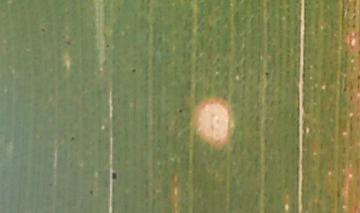tarspot: (63, 38, 73, 48), (110, 170, 118, 181), (176, 106, 185, 115), (38, 26, 47, 34), (130, 66, 138, 74), (262, 70, 271, 77), (88, 188, 95, 196), (348, 94, 355, 102), (69, 135, 76, 142), (104, 43, 111, 50), (214, 56, 221, 63), (350, 22, 357, 29), (351, 14, 357, 22), (356, 74, 360, 80)
